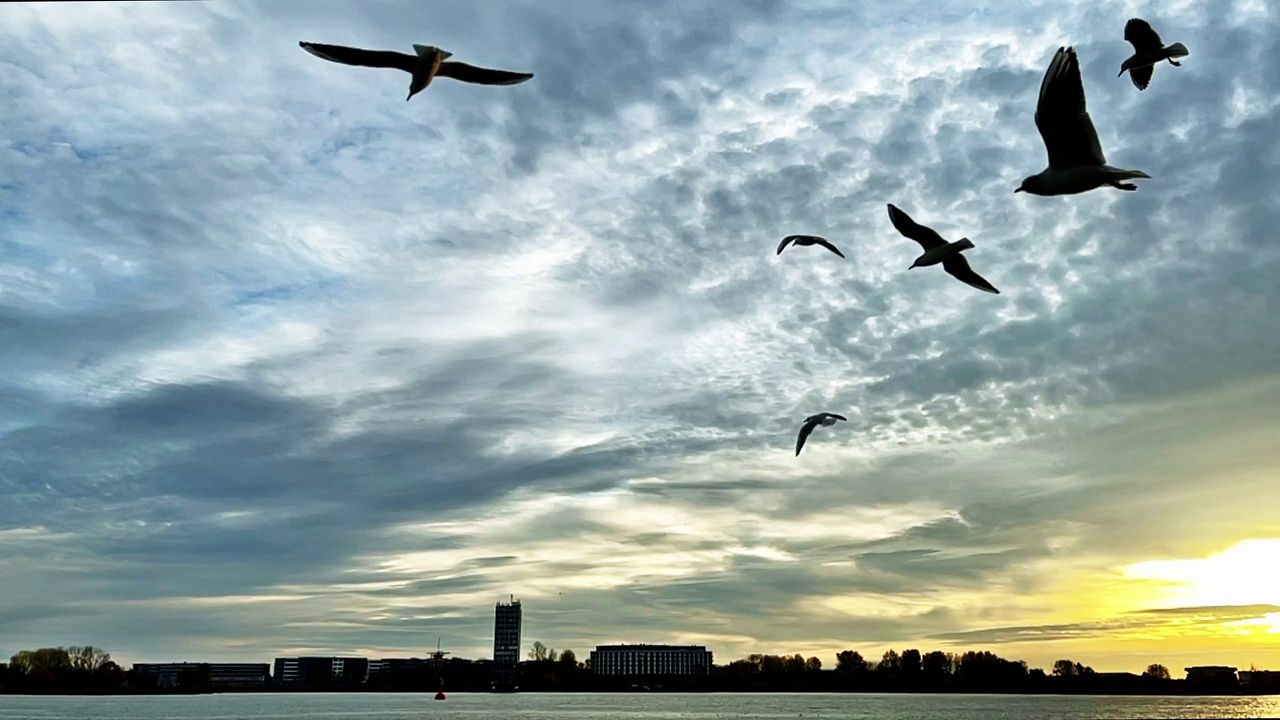bird: (1014, 45, 1152, 197), (296, 38, 533, 100), (886, 201, 1001, 295), (1114, 17, 1187, 92), (795, 408, 847, 457), (775, 232, 843, 260)
